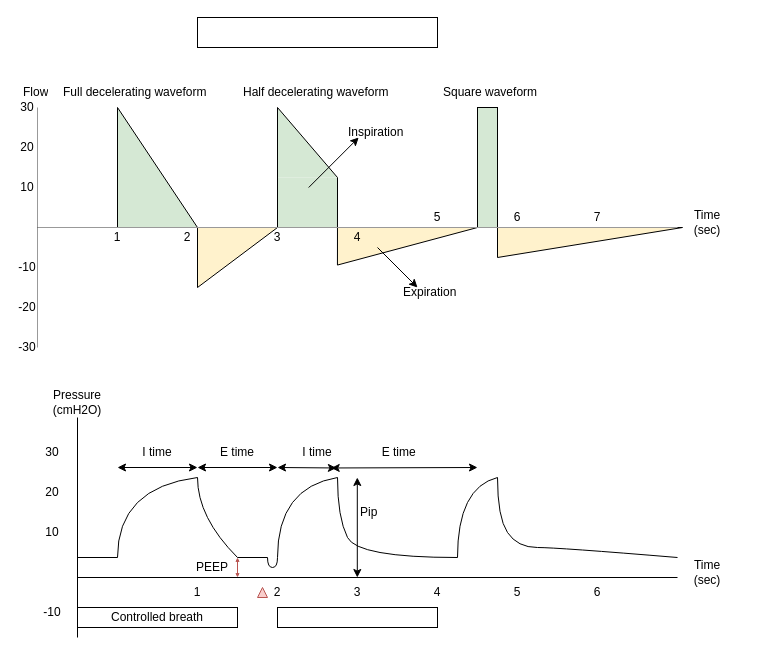
Image size: 774x656. Some labels were removed from this diagram. Each missing label, with the centre of its shape:
"Triggered breath" belongs at (x=357, y=617).
"Volume-controlled ventilation" belongs at (x=317, y=32).
